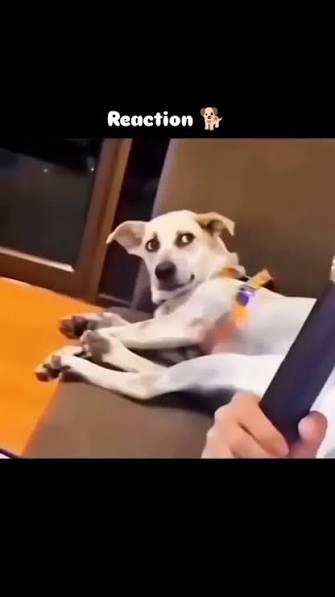adult_dog: (30, 212, 308, 401)
